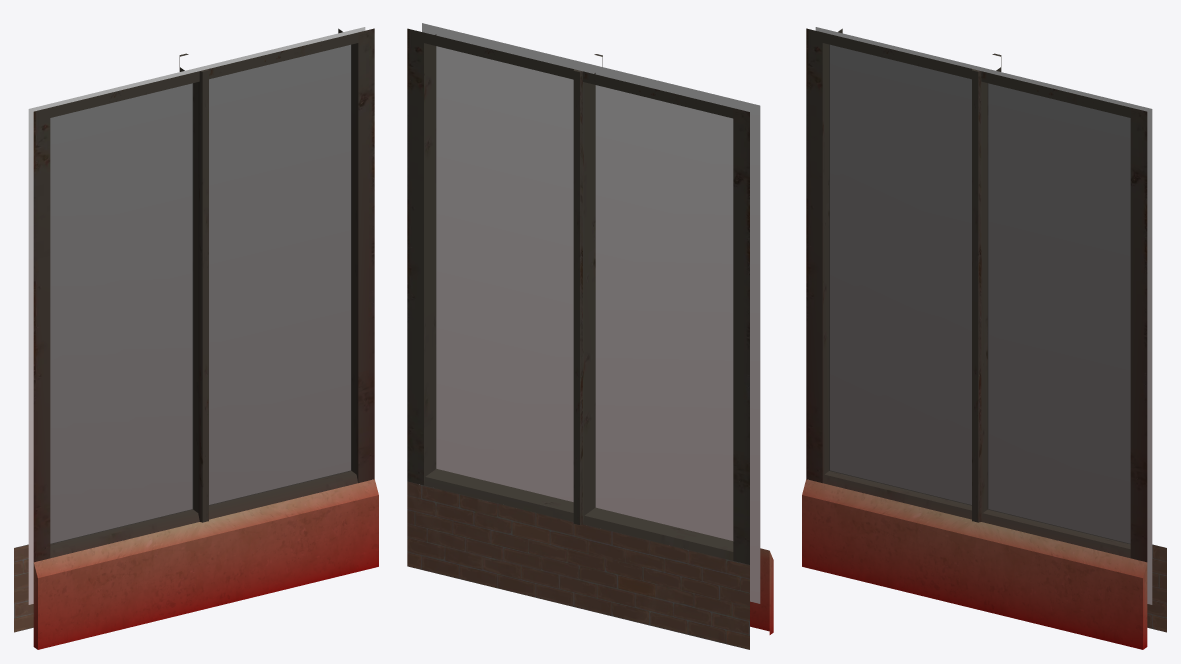
File: Metal_FirstFloor_Window.glb
3 renders of one model, left to right at view 1: azimuth 30°, elevation 25°; view 2: azimuth 150°, elevation 25°; view 3: azimuth 330°, elevation 25°, orthographic.
Visible parts, largest first — view 1: Metal_FirstFloor_Window; view 2: Metal_FirstFloor_Window; view 3: Metal_FirstFloor_Window.
Boxes of the visible parts, x1=… form: Metal_FirstFloor_Window: x1=14, y1=27, x2=378, y2=649; Metal_FirstFloor_Window: x1=407, y1=23, x2=773, y2=649; Metal_FirstFloor_Window: x1=802, y1=27, x2=1166, y2=649.
Size of the model in its own units: 2 by 3 by 0.2588.
Materials: 5 (3 with a texture image).
